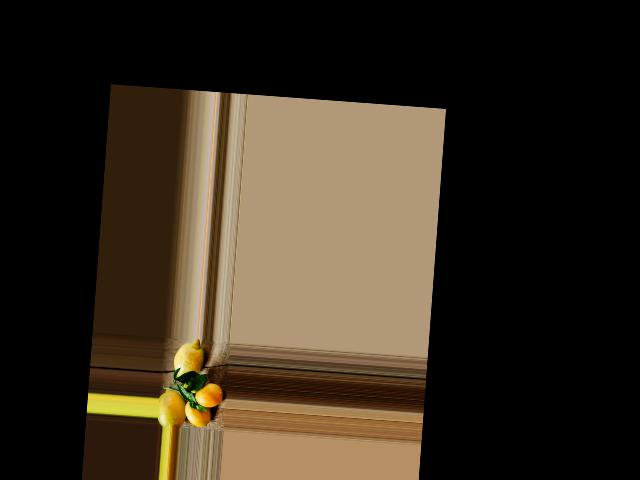lemon: (171, 338, 209, 386)
